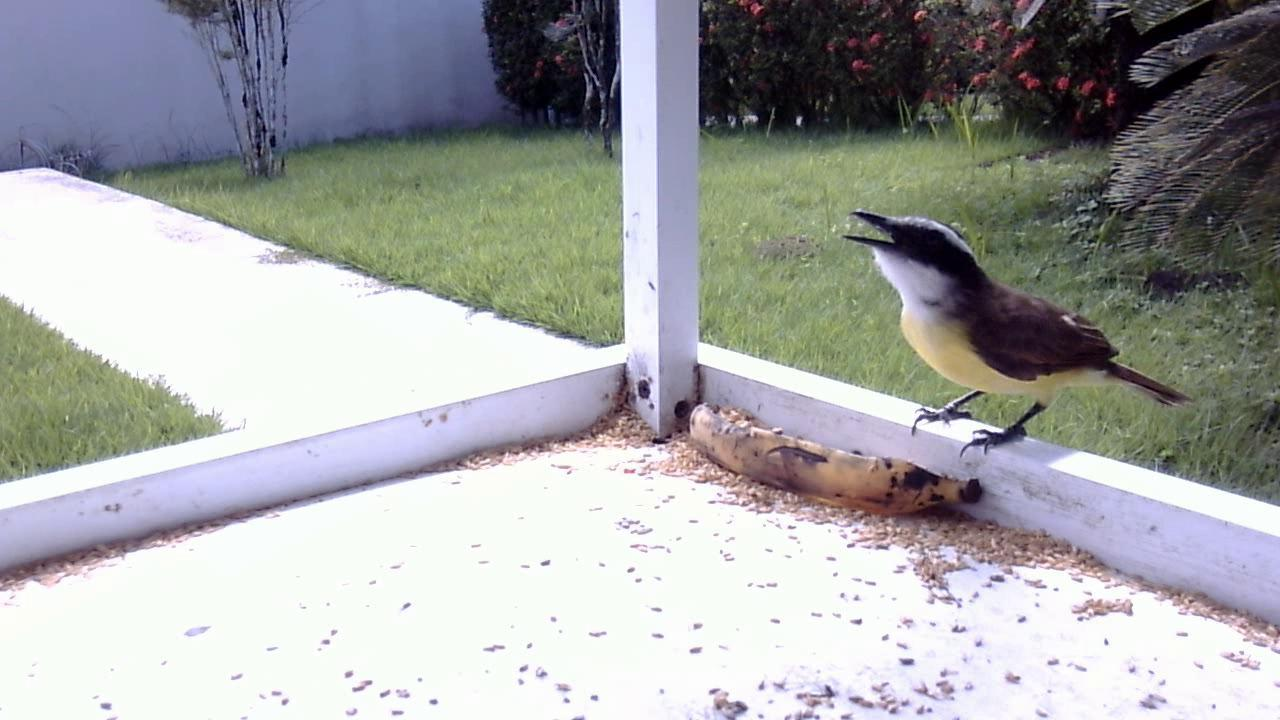bem_te_vi: (831, 204, 1197, 477)
